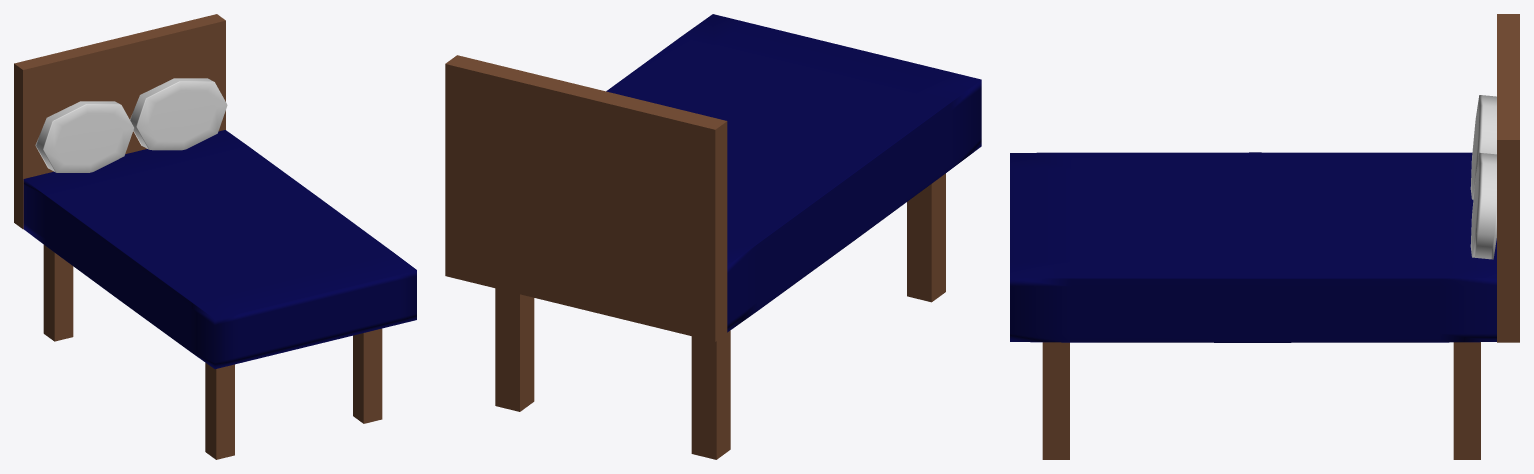
Rendered from bed.fbx.
3 renders of one model, left to right at view 1: azimuth 30°, elevation 25°; view 2: azimuth 150°, elevation 25°; view 3: azimuth 270°, elevation 25°, orthographic. The views are drawn at different scales.
Visible parts, largest first — view 1: bed1; view 2: bed1; view 3: bed1.
Boxes of the visible parts, x1,y1,x2,y2 form: bed1: [14, 14, 416, 459]; bed1: [445, 14, 981, 459]; bed1: [1010, 14, 1519, 459].
Bounding box in the file's own units: 12.98 × 16.05 × 22.2.
